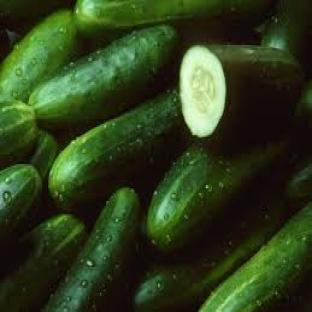Cucumber: (134, 200, 283, 311), (50, 91, 183, 207), (147, 144, 287, 252), (29, 26, 177, 128), (200, 203, 311, 311), (180, 46, 303, 141), (44, 189, 139, 311), (0, 214, 86, 311), (0, 10, 77, 102), (0, 165, 42, 242), (0, 102, 38, 167), (29, 131, 59, 180), (287, 158, 311, 205), (296, 81, 311, 135), (0, 26, 9, 61)
